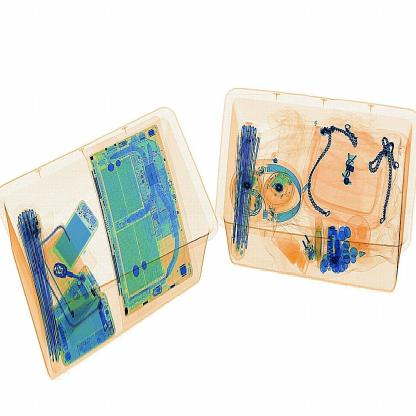scissors: (326, 224, 343, 269)
